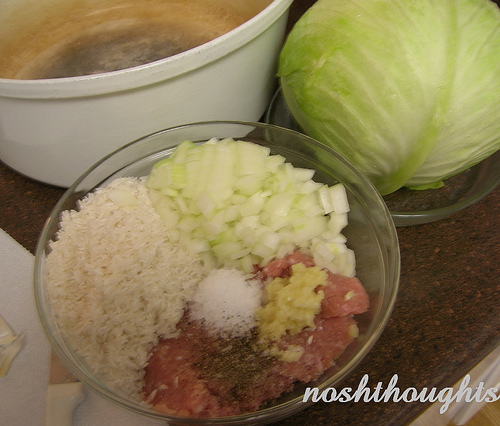cabbage: (275, 0, 498, 199)
